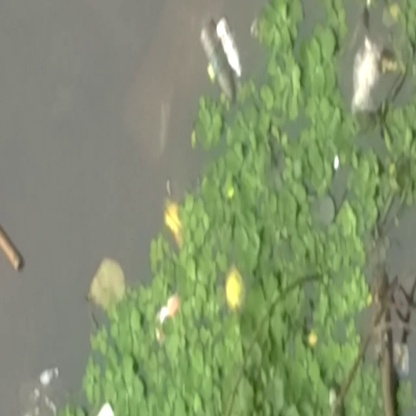bottle: (216, 15, 252, 77)
